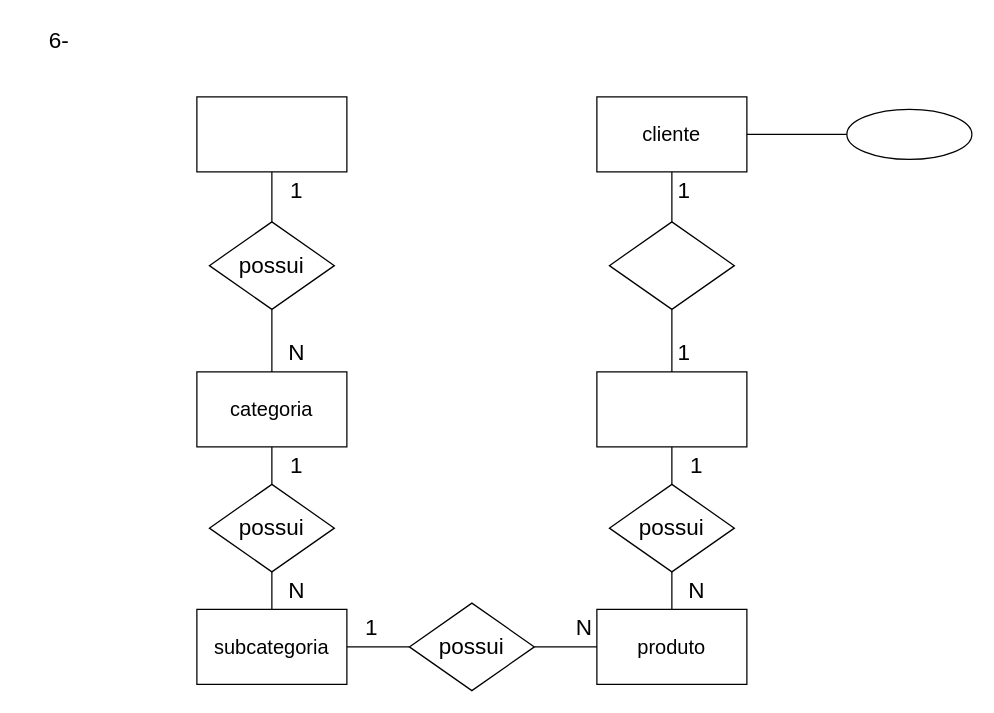
Some shapes in this 994 by 713 pixel diagram are drawn without their labels. The shapes that lost their labels are listed below. From the top down, each one's box as (x1, y1, x2, y2) in pixels, then its label:
(196, 96, 347, 172): loja
(846, 108, 972, 159): nome
(608, 221, 734, 309): Faz
(596, 371, 747, 447): pedido
